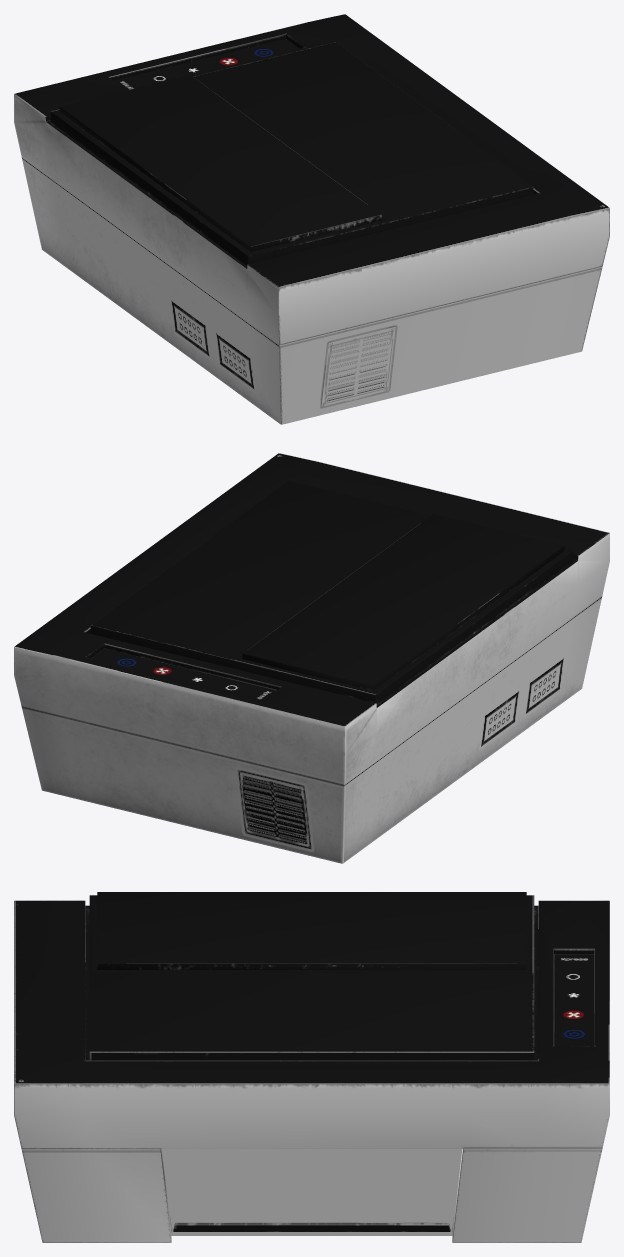
The model's file is Printer.fbx.
3 views of the same model, one above another, from view 1: azimuth 30°, elevation 25°; view 2: azimuth 150°, elevation 25°; view 3: azimuth 270°, elevation 25° (orthographic). The views are drawn at different scales.
Parts seen in each view (by area): view 1: Printer; view 2: Printer; view 3: Printer.
Part boxes in pixels (x1=…): Printer: x1=14, y1=14, x2=609, y2=424; Printer: x1=14, y1=453, x2=609, y2=863; Printer: x1=14, y1=892, x2=609, y2=1242.
Size of the model in its own units: 38.67 by 16.38 by 48.53.
Materials: 1 (1 with a texture image).
